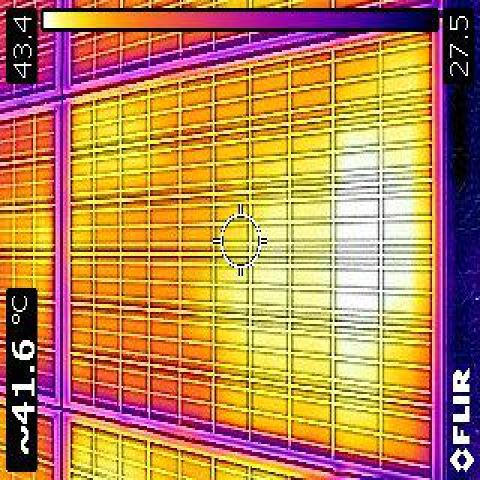fault: (334, 141, 417, 362)
